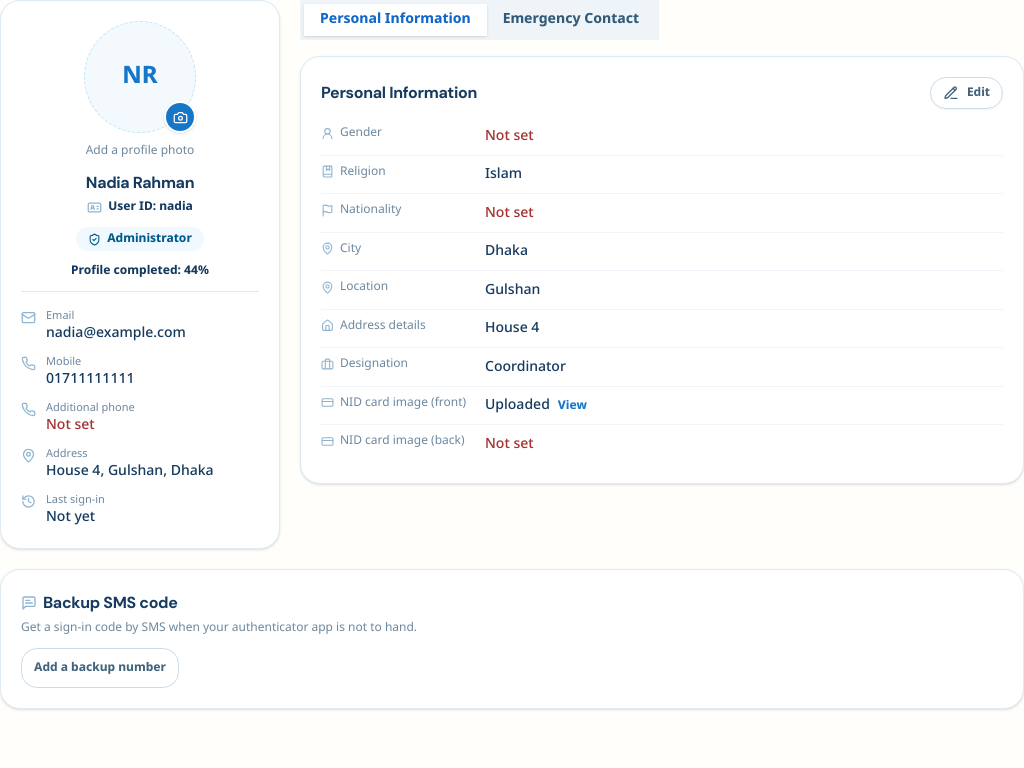
Test case: the backup SMS code on an Admin's own profile › sends a code to the typed number, then confirms it to store the number
Click the button "Add a backup number" at coordinates (100, 668), box [21, 648, 179, 688]
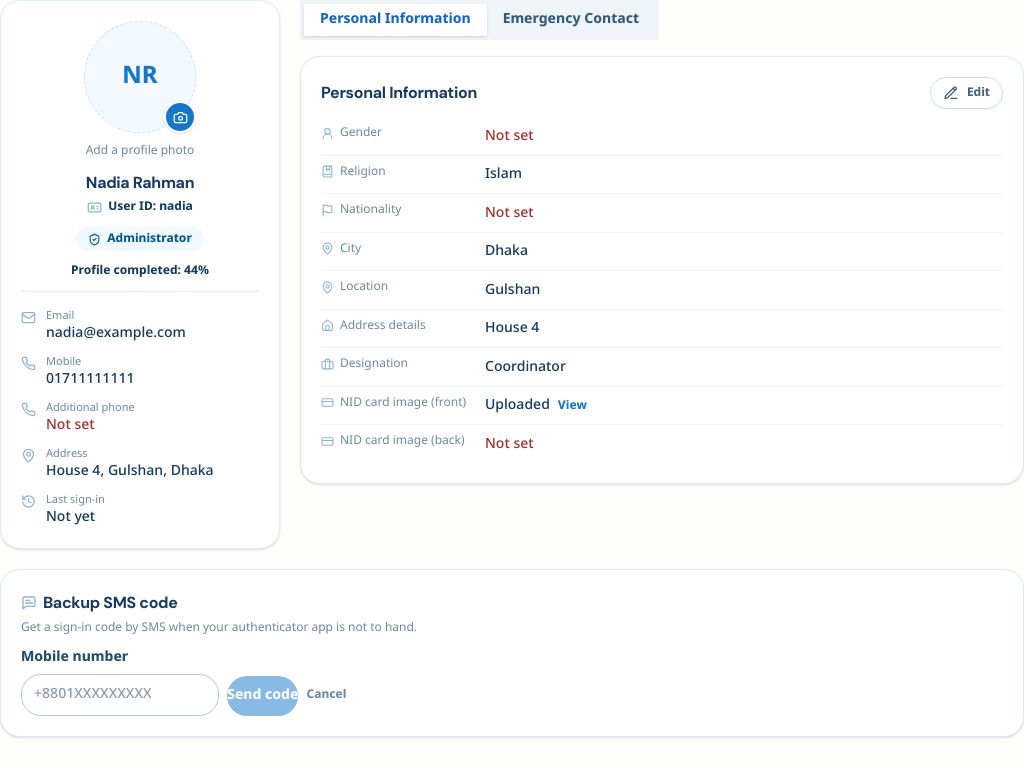
Type "+8801812345678" into the field with placeholder "+8801XXXXXXXXX" at coordinates (120, 695), box [21, 674, 219, 716]
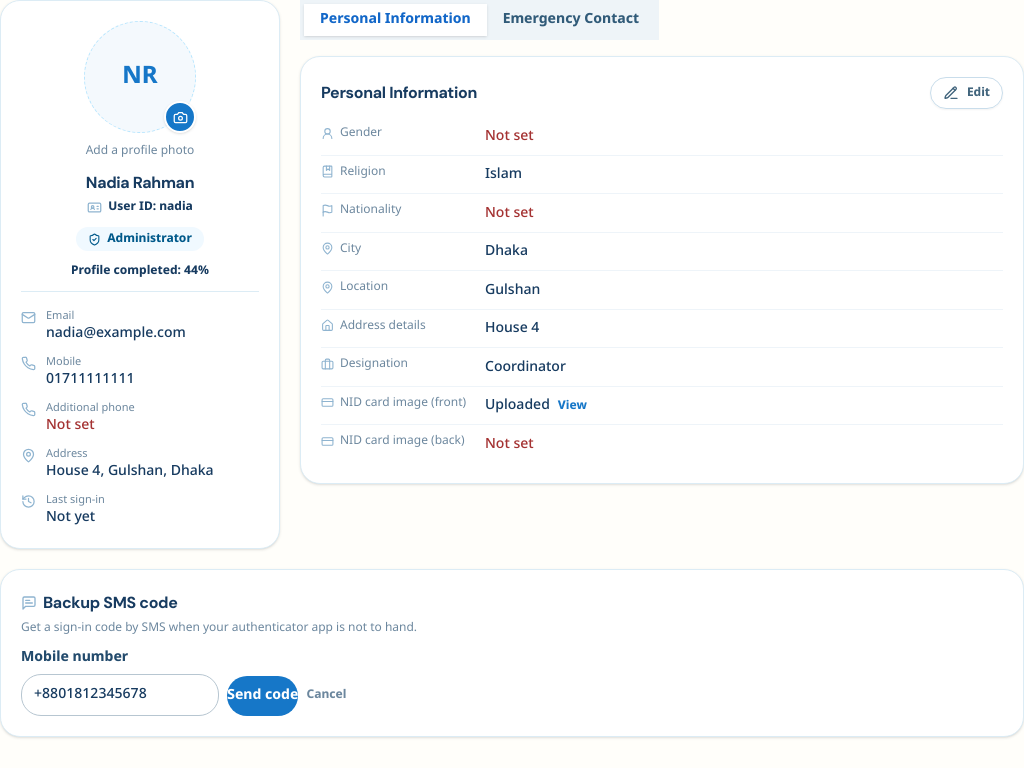
Click the button "Send code" at coordinates (263, 696), box [227, 676, 298, 716]
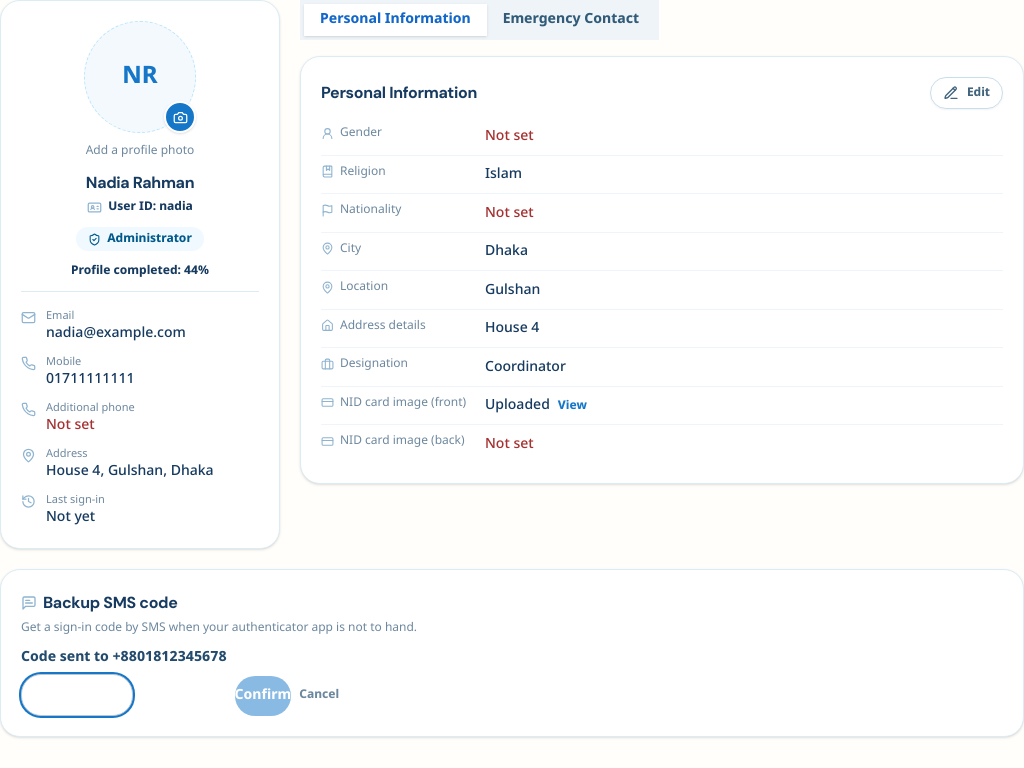
Expected: the text "Code sent to +8801812345678" is shown, [21, 648, 226, 716]
Type "4821" into the field labelled "Code sent to +8801812345678" at coordinates (77, 695), box [21, 674, 133, 716]
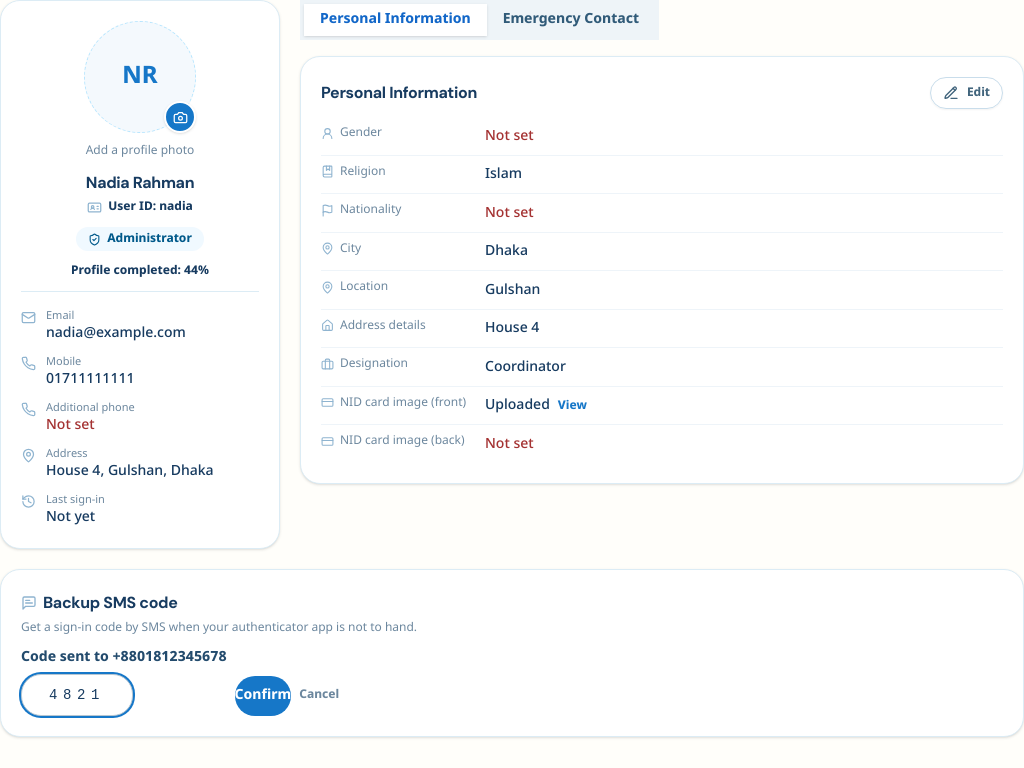
Click the button "Confirm" at coordinates (263, 696), box [234, 676, 291, 716]
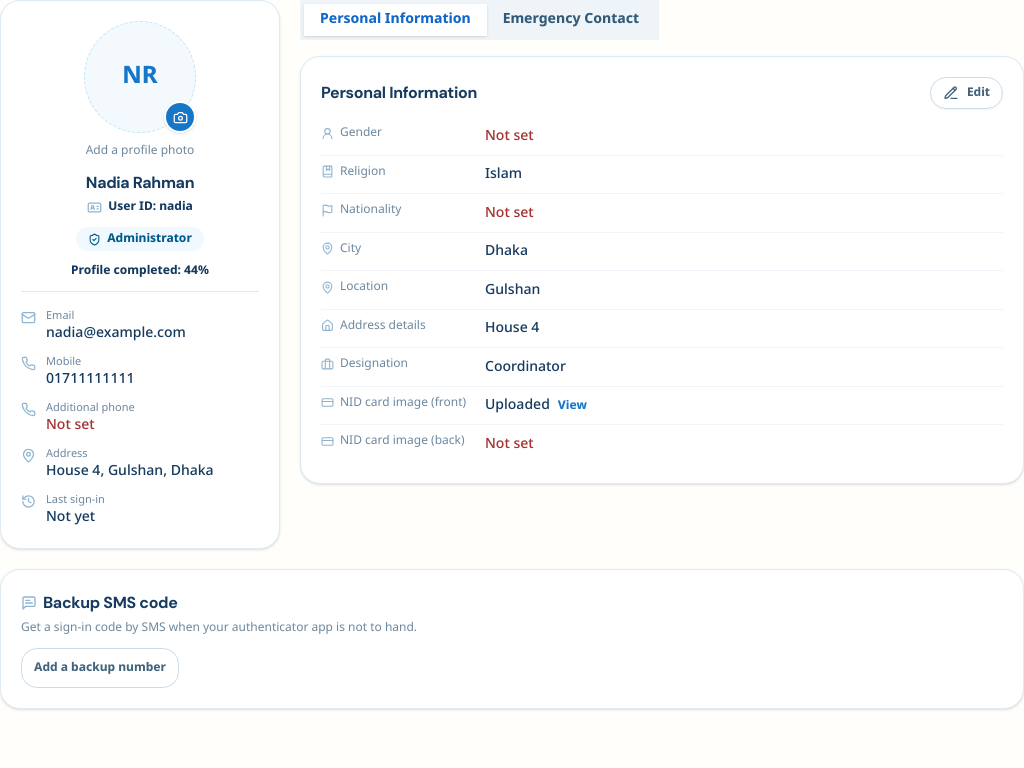
Expected: the button "Add a backup number" is shown, [21, 648, 179, 688]
